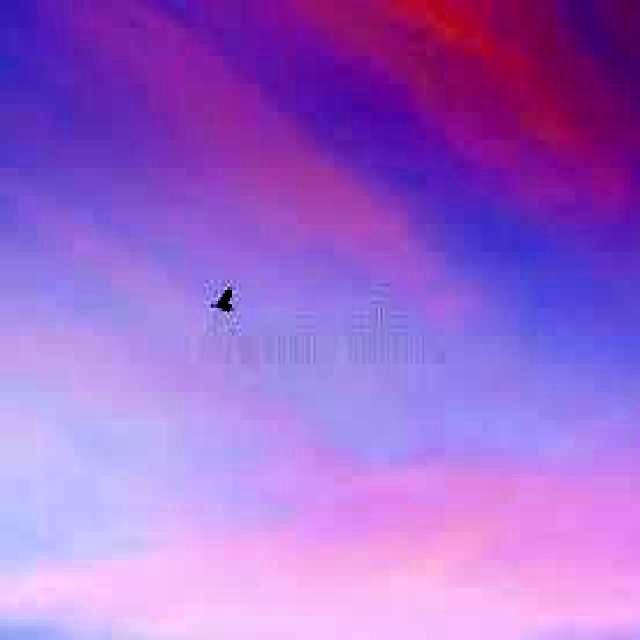bird: (211, 280, 240, 315)
